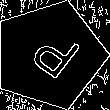P_SW: (18, 24, 81, 86)
